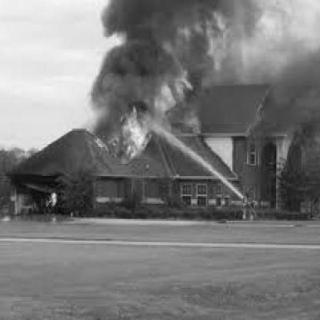Fire: (87, 100, 155, 166), (45, 190, 57, 204)
Smoke: (250, 49, 318, 139)
